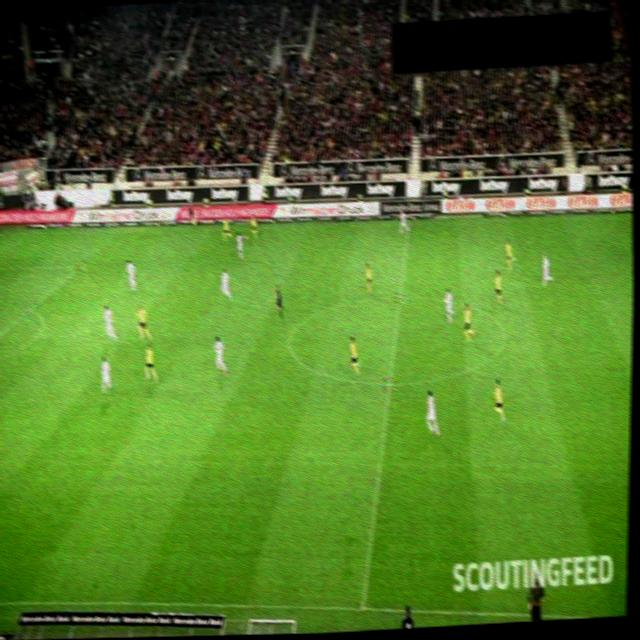bigarea_top_inner: (74, 259, 87, 271)
corner: (0, 226, 1, 239)
halfcircle_bottom: (383, 376, 398, 391)
halfcircle_top: (392, 289, 408, 304)
midline_bottom_intersection: (354, 599, 372, 616)
midline_top_intersection: (402, 217, 414, 228)
top_arc_area_intersection: (24, 303, 37, 314)
